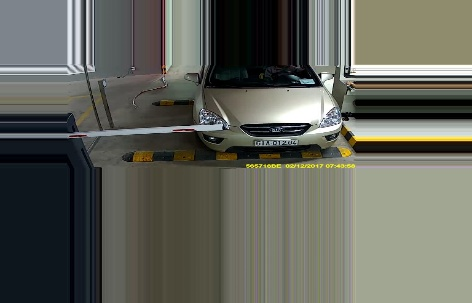plate: (253, 139, 299, 150)
